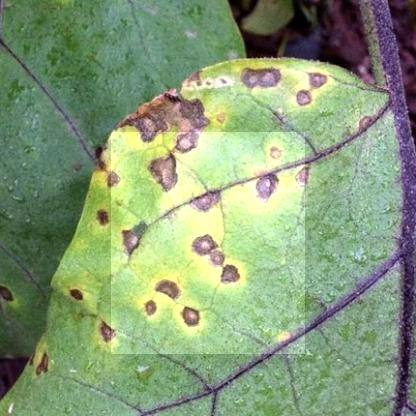black-spot: (111, 132, 305, 354), (231, 62, 333, 112)
